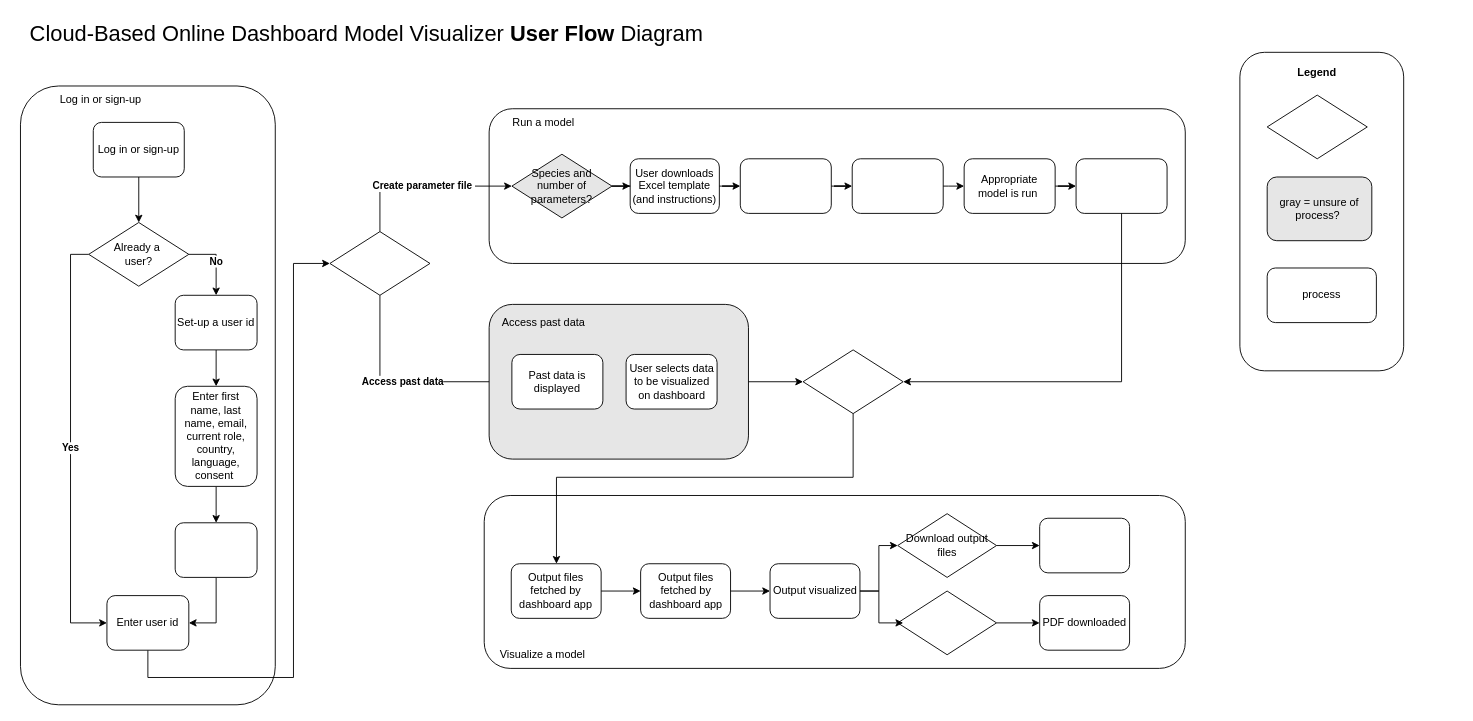
Some shapes in this 1473 by 721 pixel diagram are drawn without their labels. The shapes that lost their labels are listed below. From the top down, each one's box as (x1, y1, x2, y2) in pixels, then its label:
(1266, 94, 1367, 159): User decision
(739, 158, 831, 213): User uploads Excel template
(851, 158, 943, 213): Excel template converted to YAML files
(1075, 158, 1167, 213): Two output files are generated
(329, 231, 430, 295): Create parameter file or access past data?
(802, 349, 903, 414): Visualize Model
(174, 522, 257, 577): User emailed user id
(1039, 517, 1130, 573): Output csv files downloaded
(897, 590, 997, 655): Download visualization as report
